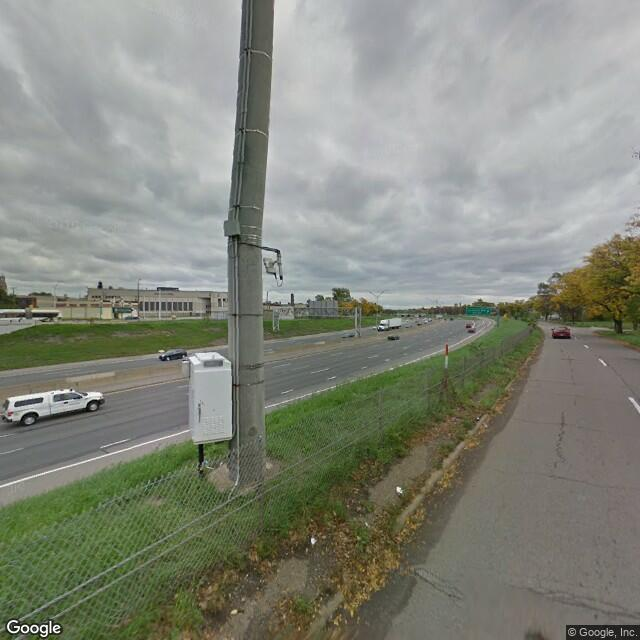litter: (306, 535, 319, 547), (395, 481, 405, 496), (230, 604, 238, 615)
